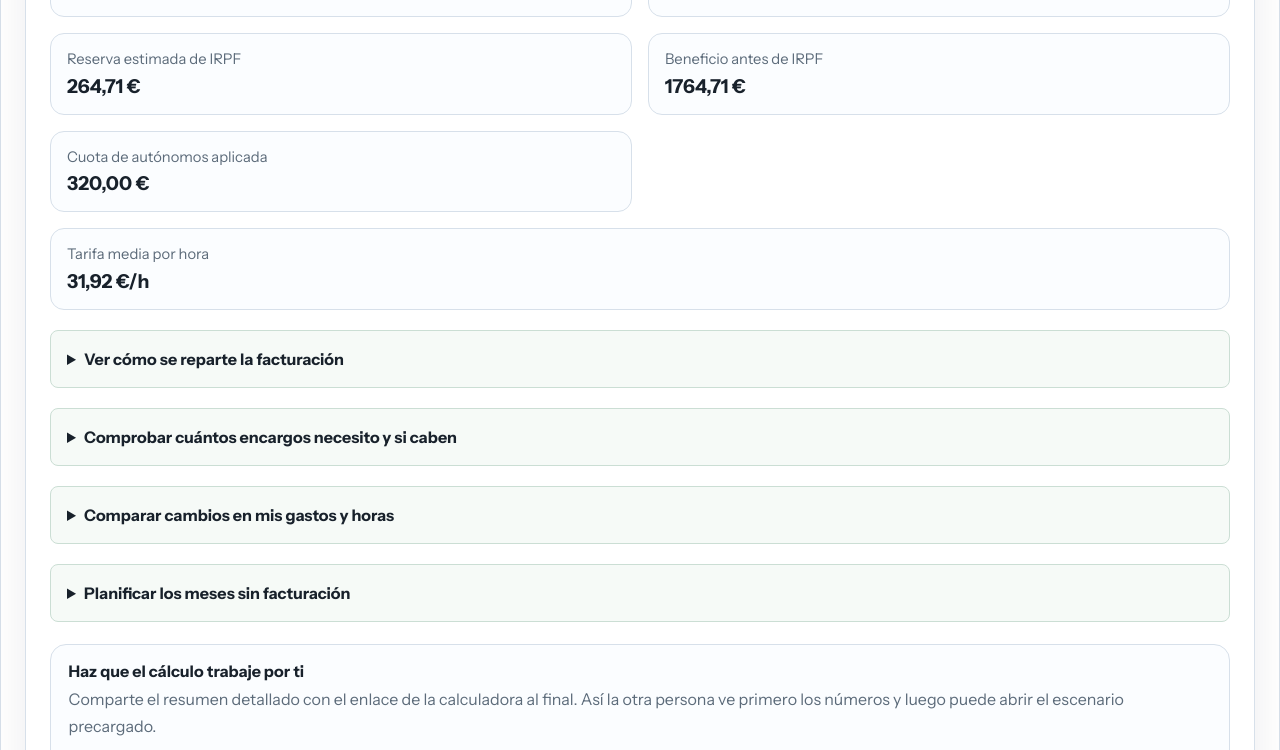
Scenario: monthly portfolio editor › uses the actual result without changing its summary, hours, GET fields or events
(page scrolled)
Click the heading "Comprobar cuántos encargos necesito y si caben". click: (270, 437)
box: top-left (84, 427), bottom-right (457, 447)
(page scrolled)
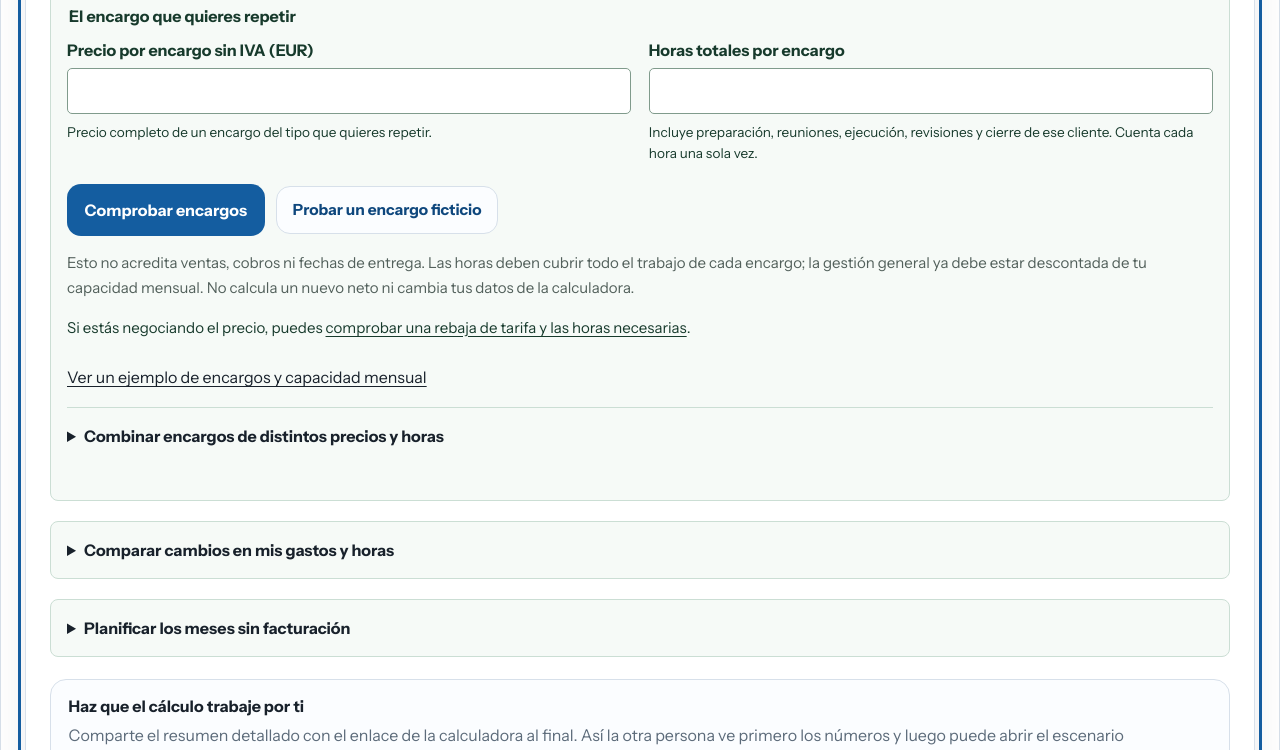
Click the heading "Combinar encargos de distintos precios y horas". click: (264, 436)
box: top-left (84, 426), bottom-right (444, 446)
(page scrolled)
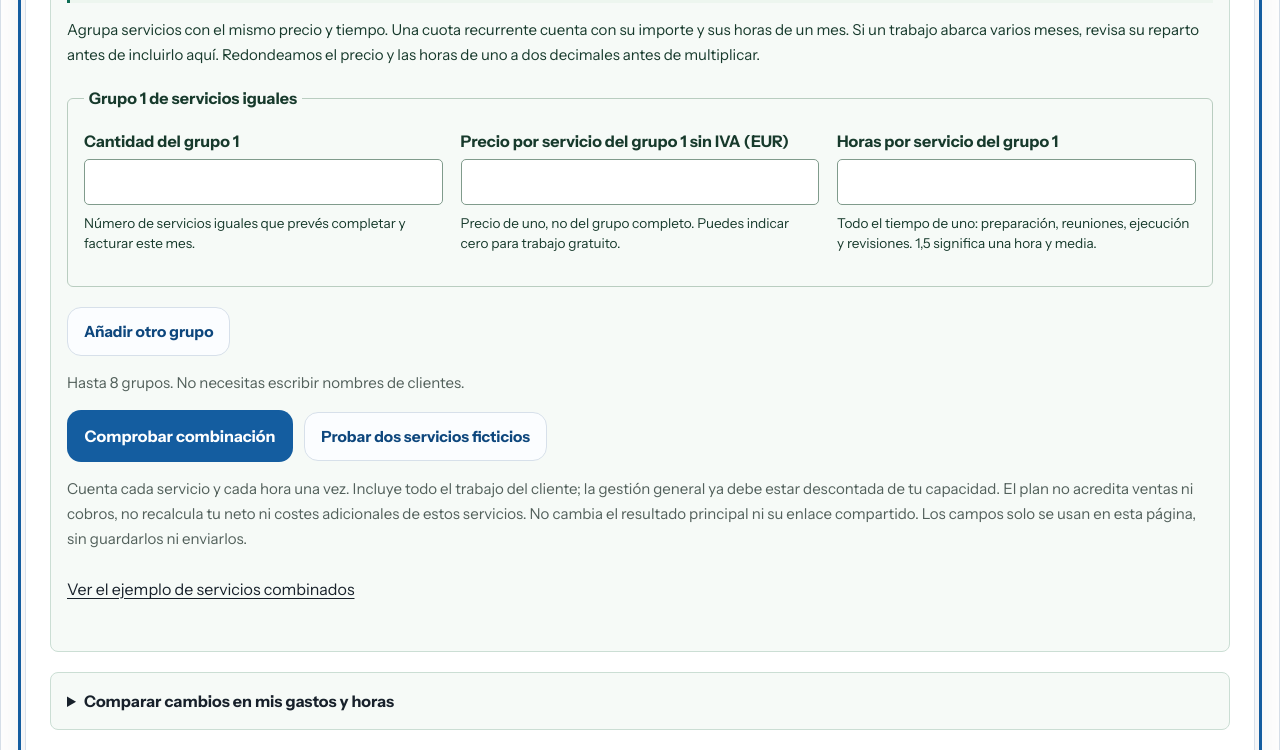
Click the button "Probar dos servicios ficticios". click: (426, 436)
box: top-left (304, 412), bottom-right (547, 460)
(page scrolled)
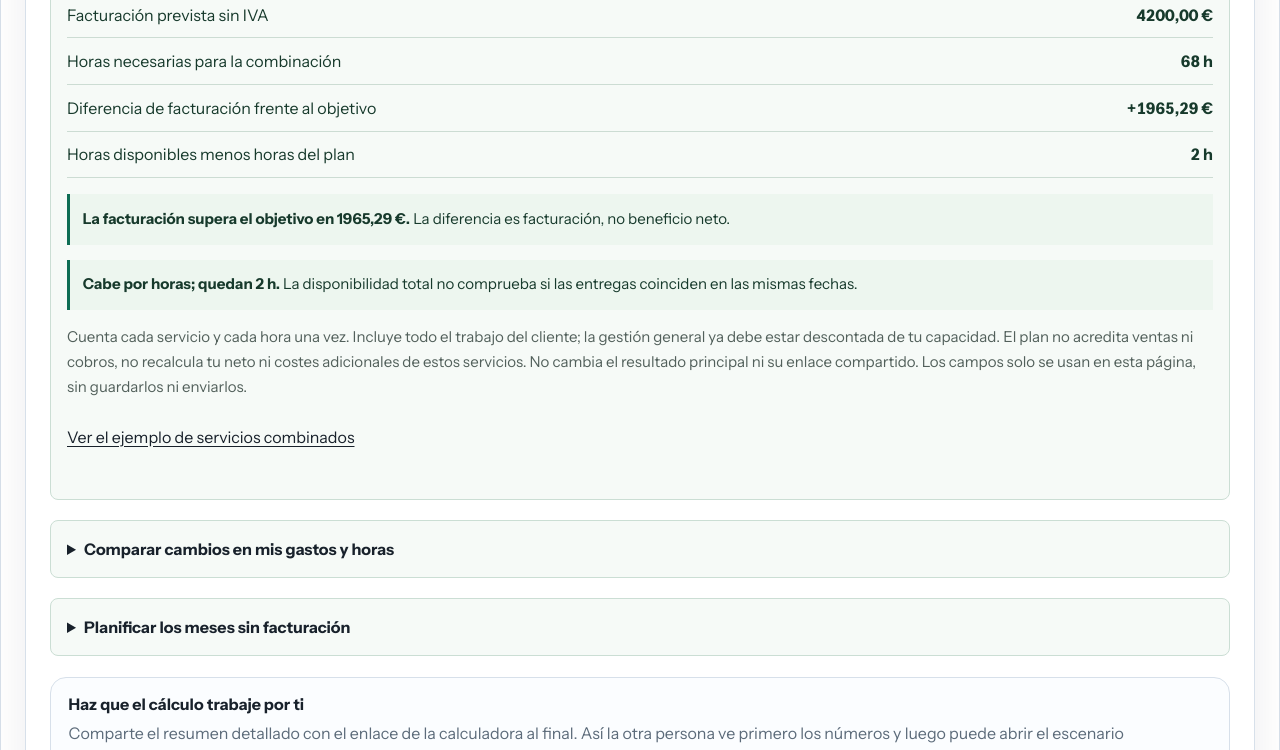
Check: the message named "Plan de servicios combinados" shows "supera el objetivo en 1965,29", box top-left (83, 209), bottom-right (410, 228)
Check: the message named "Plan de servicios combinados" shows "quedan 2 h", box top-left (83, 274), bottom-right (280, 294)
